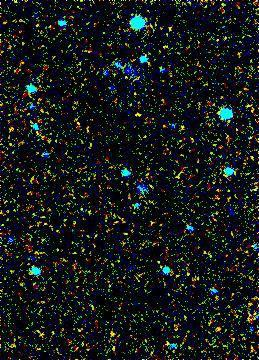star: (201, 312, 231, 342)
